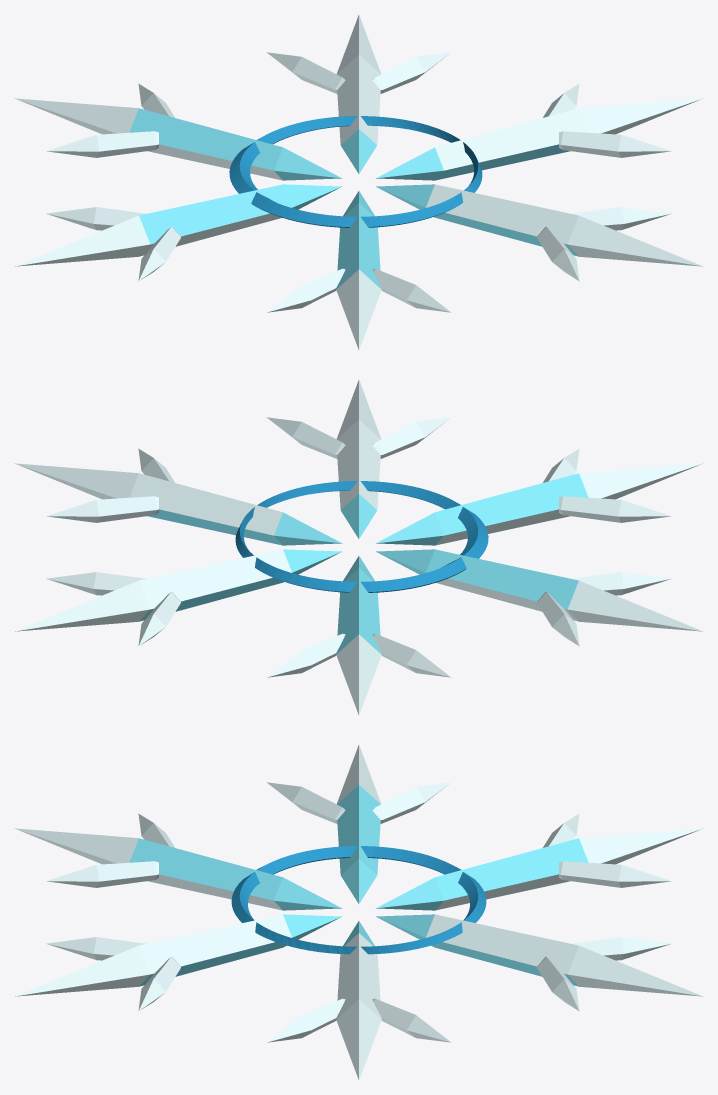
The model's file is VFX_42_GeloSigilloEsagonale.fbx.
3 views of the same model, one above another, from view 1: azimuth 30°, elevation 25°; view 2: azimuth 150°, elevation 25°; view 3: azimuth 270°, elevation 25° (orthographic).
Parts seen in each view (by area): view 1: VFX_42_GeloSigilloEsagonale; view 2: VFX_42_GeloSigilloEsagonale; view 3: VFX_42_GeloSigilloEsagonale.
Part boxes in pixels (x1,y1,x2,y2): VFX_42_GeloSigilloEsagonale: (14,15,703,349); VFX_42_GeloSigilloEsagonale: (14,380,703,714); VFX_42_GeloSigilloEsagonale: (14,745,703,1079).
Size of the model in its own units: 401 by 22.9 by 347.
Materials: 1 (1 with a texture image).
